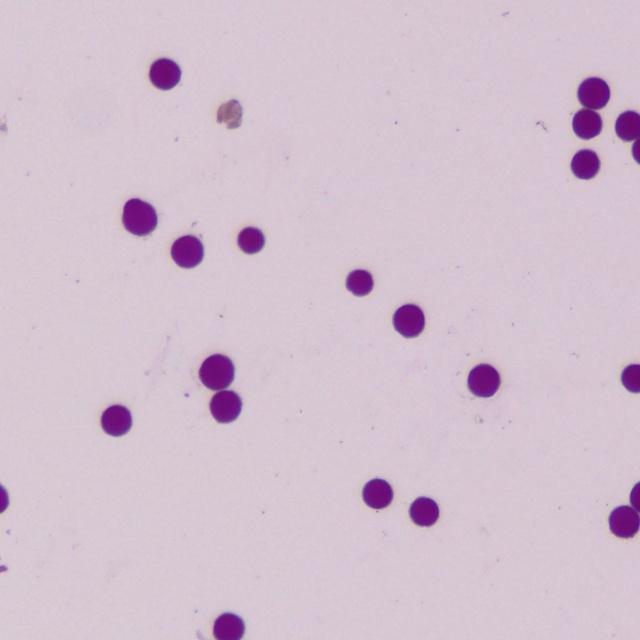viable: (122, 198, 157, 235), (200, 354, 233, 390), (467, 364, 499, 396), (171, 235, 203, 267), (210, 390, 241, 422), (149, 58, 180, 89), (609, 505, 639, 537), (394, 305, 424, 336), (578, 78, 609, 108), (101, 405, 131, 436), (363, 478, 392, 509), (572, 109, 601, 139), (571, 149, 599, 179), (409, 497, 438, 525), (213, 612, 243, 639), (615, 110, 639, 141), (346, 269, 373, 295), (238, 227, 264, 253), (622, 364, 639, 392), (630, 482, 639, 511), (0, 485, 9, 513), (632, 138, 639, 163)
